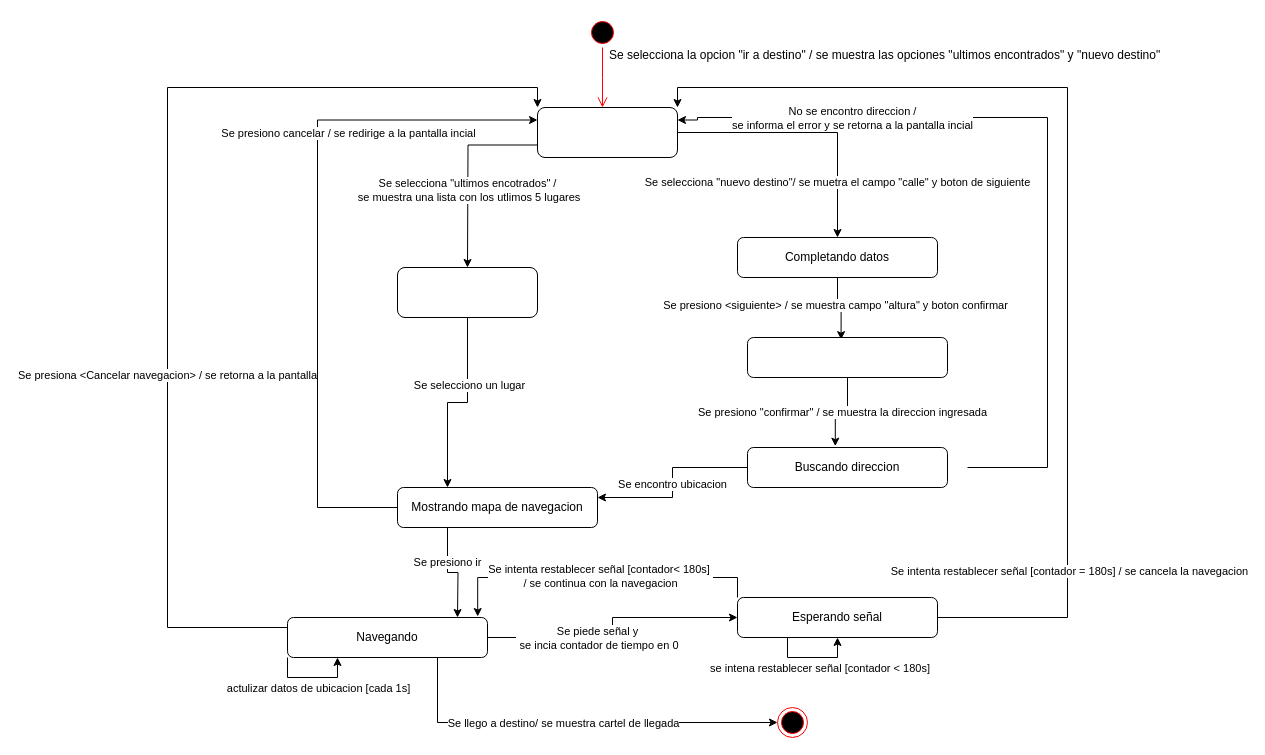
Image size: 1265x755. Some labels were removed from this diagram. The shapes that lost their labels are listed below. From the top down, each one's centre as x and y in pixels, then its label:
At (607,132): "Esperando opcion".
At (467,292): "Esperando seleccion de lugar".
At (847,357): "Completando datosfinales".
